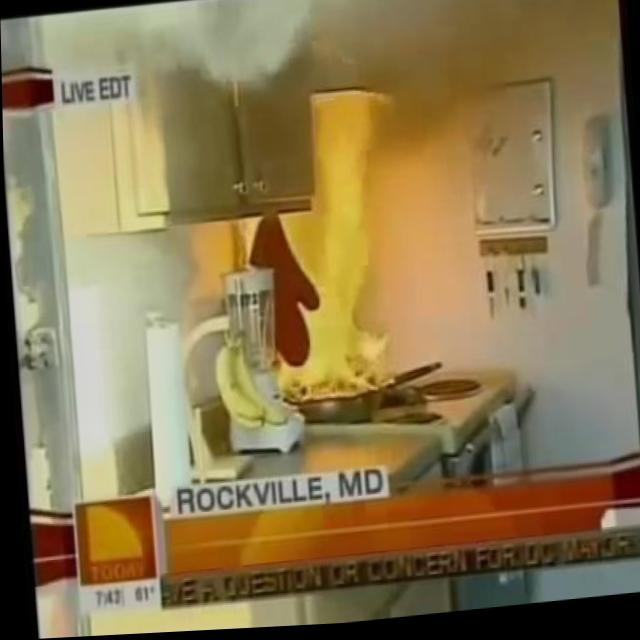fire: (240, 83, 407, 409)
